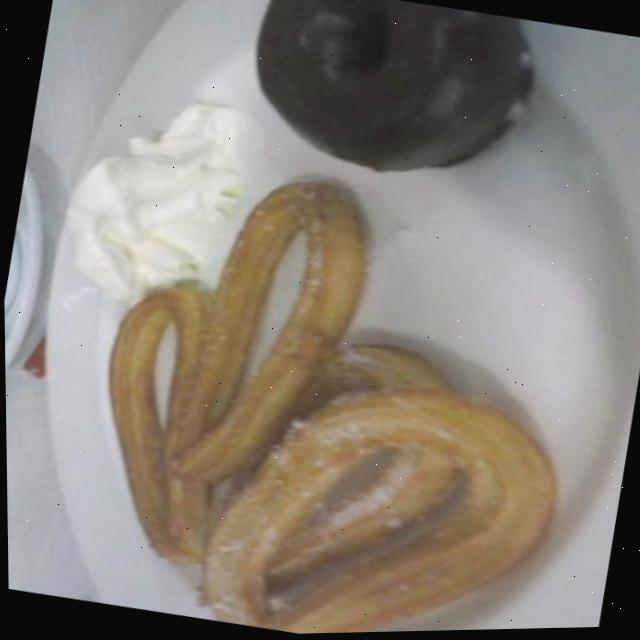炸货点心: (1, 99, 632, 640)
